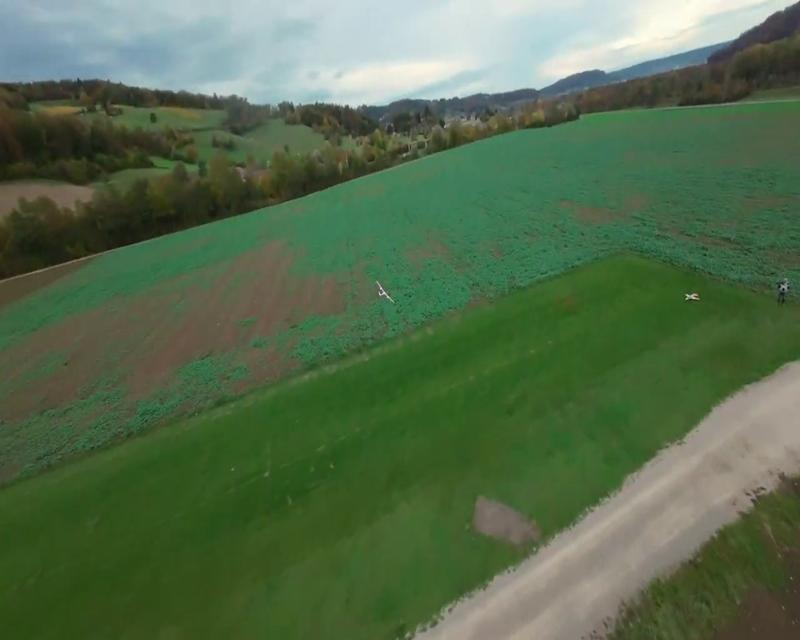UAV: (376, 280, 396, 304)
